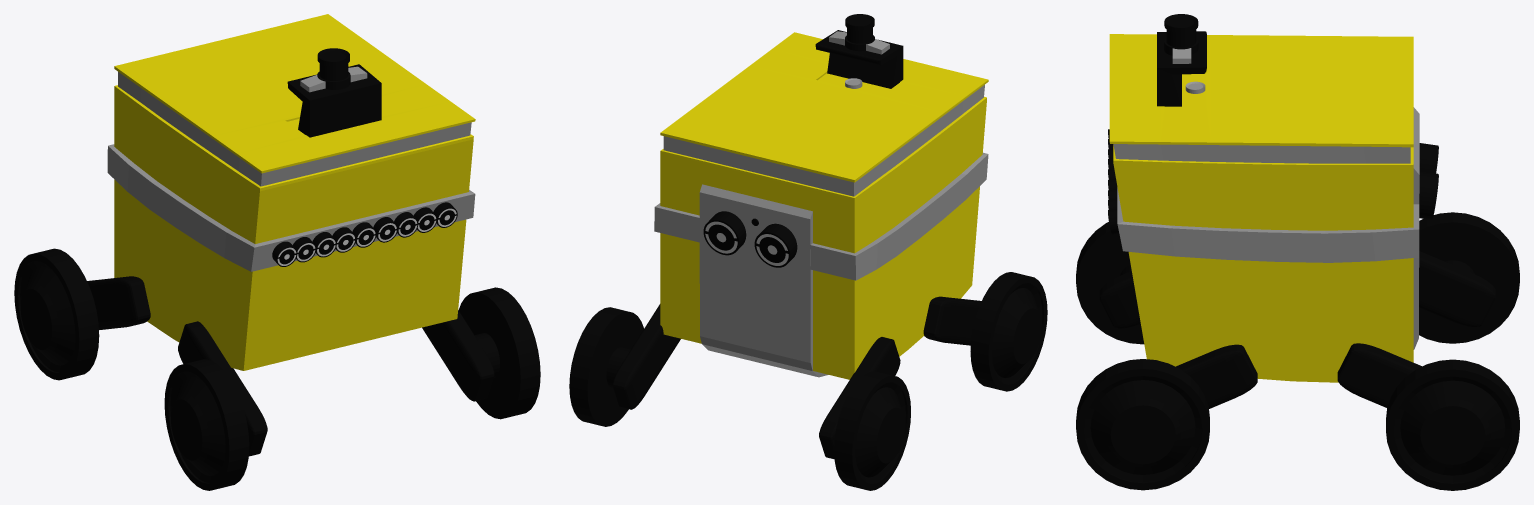
3 renders of one model, left to right at view 1: azimuth 30°, elevation 25°; view 2: azimuth 150°, elevation 25°; view 3: azimuth 270°, elevation 25°, orthographic. The views are drawn at different scales.
Parts seen in each view (by area): view 1: Cube, Cylinder.011, Cylinder.010, Cylinder.009, Cube.001, Cube.005, Cube.004, Cube.007, Cylinder; view 2: Cube, Cube.008, Cylinder.010, Cylinder.011, Cylinder.008, Cube.006, Cube.001, Cube.004, Cube.007, Cylinder.001, Cylinder.002, Cylinder; view 3: Cube, Cylinder.008, Cylinder.009, Cylinder.011, Cube.007, Cylinder.010, Cube.006, Cube.005, Cube.001, Cube.004, Cylinder, Cube.008 (+2 smaller).
Boxes of the visible parts, <box> form: Cube: <box>107,14,475,370</box>; Cylinder.011: <box>14,248,99,380</box>; Cylinder.010: <box>164,359,249,490</box>; Cylinder.009: <box>458,287,540,419</box>; Cube.001: <box>287,64,381,137</box>; Cube.005: <box>422,310,494,401</box>; Cube.004: <box>178,321,267,456</box>; Cube.007: <box>87,276,150,329</box>; Cylinder: <box>317,48,350,89</box>; Cube: <box>654,32,988,379</box>; Cube.008: <box>699,184,828,377</box>; Cylinder.010: <box>970,272,1047,391</box>; Cylinder.011: <box>834,371,910,490</box>; Cylinder.008: <box>569,307,643,426</box>; Cube.006: <box>612,304,680,409</box>; Cube.001: <box>815,30,903,88</box>; Cube.004: <box>923,296,981,345</box>; Cube.007: <box>819,337,900,459</box>; Cylinder.001: <box>703,211,746,255</box>; Cylinder.002: <box>754,223,797,267</box>; Cylinder: <box>845,14,874,51</box>; Cube: <box>1109,34,1419,382</box>; Cylinder.008: <box>1386,359,1519,490</box>; Cylinder.009: <box>1076,359,1209,490</box>; Cylinder.011: <box>1419,212,1519,343</box>; Cube.007: <box>1419,251,1495,327</box>; Cylinder.010: <box>1076,222,1144,344</box>; Cube.006: <box>1337,343,1421,407</box>; Cube.005: <box>1176,344,1257,408</box>; Cube.001: <box>1157,31,1206,106</box>; Cube.004: <box>1099,271,1140,328</box>; Cylinder: <box>1164,14,1198,55</box>; Cube.008: <box>1413,107,1419,349</box>.
Size of the model in its own units: 351 by 384 by 395.
